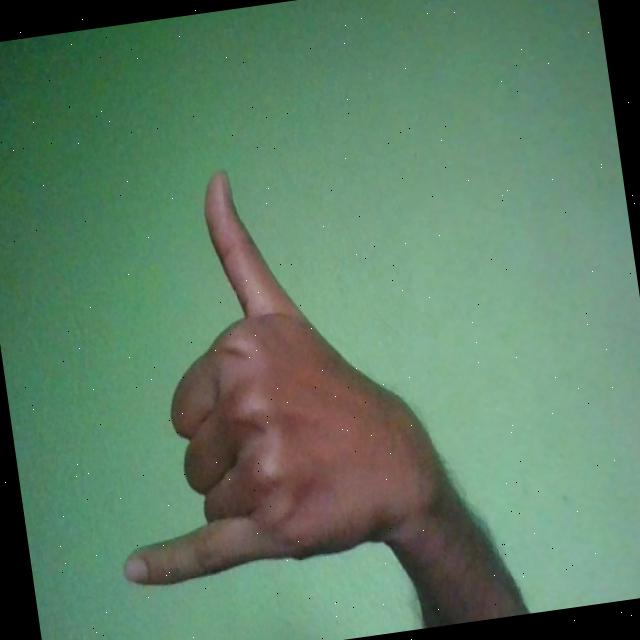Call Me: (71, 147, 463, 592)
